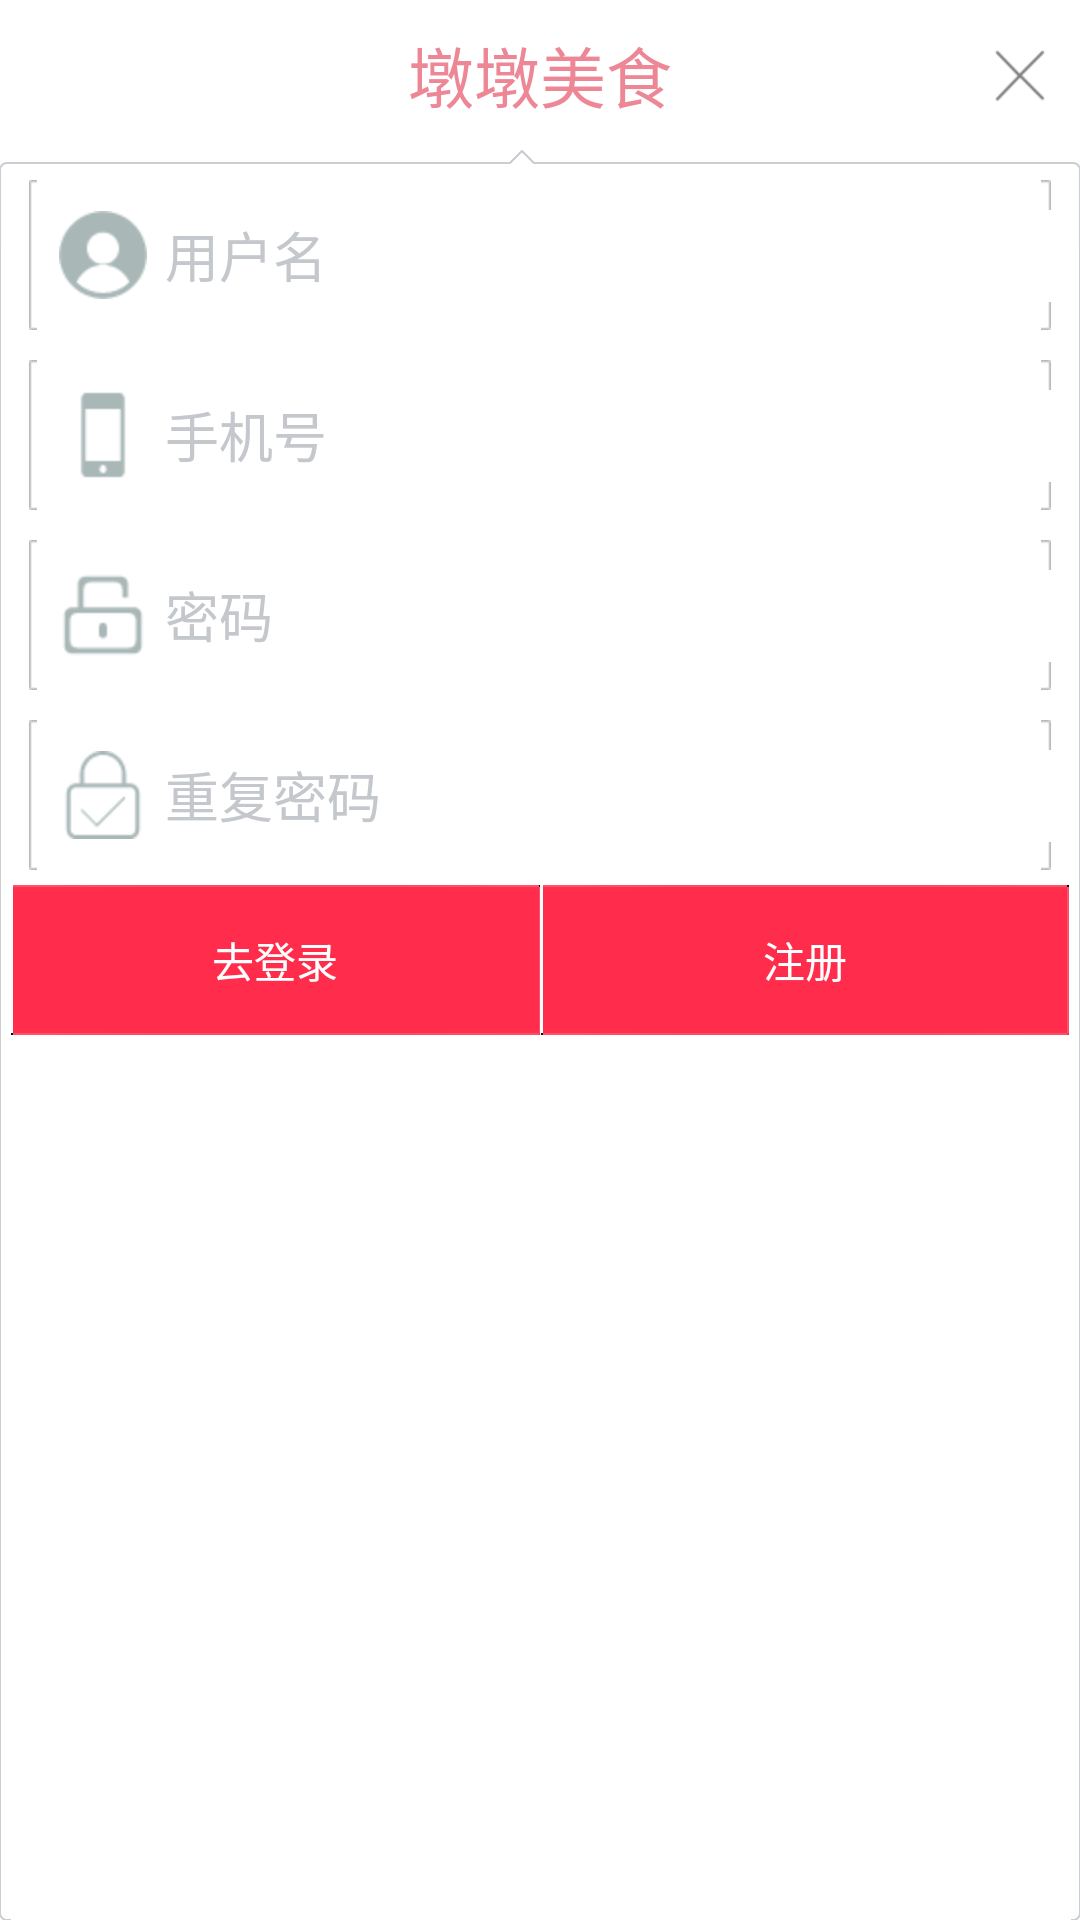

Screen size 1080×1920. Icon name, then its center in pixels as [x,y]:
waimai shopmenu dish close: [1020,76]
